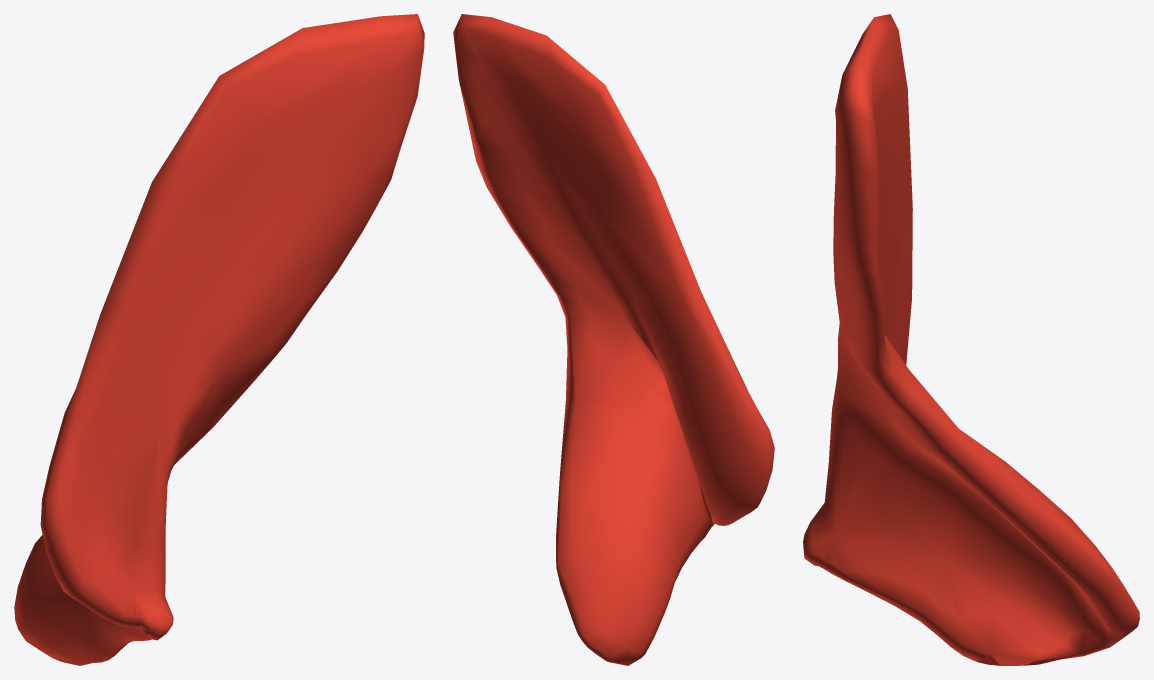
Rendered from Medial_pterygoid_insertion_right.glb.
The picture shows the model from 3 angles, left to right: view 1: azimuth 30°, elevation 25°; view 2: azimuth 150°, elevation 25°; view 3: azimuth 270°, elevation 25°; orthographic projection. The views are drawn at different scales.
Visible parts, largest first — view 1: Medial_pterygoid_muscle-_Insertion.r_Generated_Mesh_From_X3D; view 2: Medial_pterygoid_muscle-_Insertion.r_Generated_Mesh_From_X3D; view 3: Medial_pterygoid_muscle-_Insertion.r_Generated_Mesh_From_X3D.
Boxes of the visible parts, left/top/right/bottom form: Medial_pterygoid_muscle-_Insertion.r_Generated_Mesh_From_X3D: left=14, top=14, right=424, bottom=665; Medial_pterygoid_muscle-_Insertion.r_Generated_Mesh_From_X3D: left=453, top=14, right=774, bottom=665; Medial_pterygoid_muscle-_Insertion.r_Generated_Mesh_From_X3D: left=803, top=14, right=1139, bottom=665.
Size of the model in its own units: 0.00627 by 0.0101 by 0.00413.
